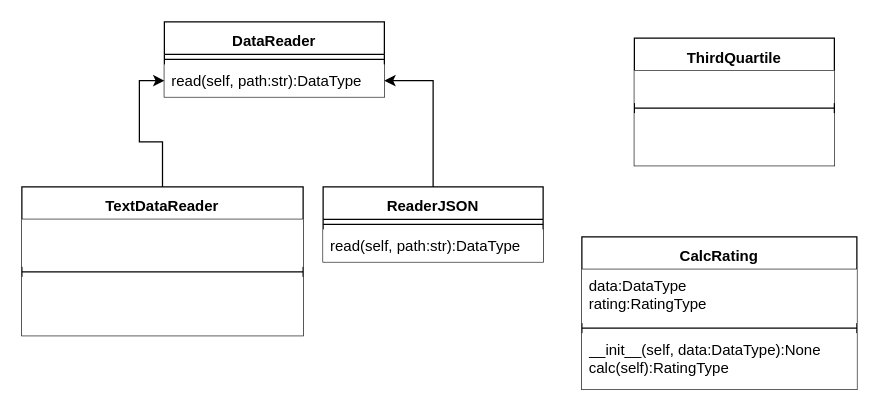
Image size: 879x415. Some labels were removed from this diagram. The centre of each missing label's shape, as x and y in pixels:
__init__(self):None read(self, path:str):DataType: (161,305)
calc(self):RatingType find(self):list[str]: (734,138)
key:list students:dict: (161,242)
rating:RatingType: (734,86)
